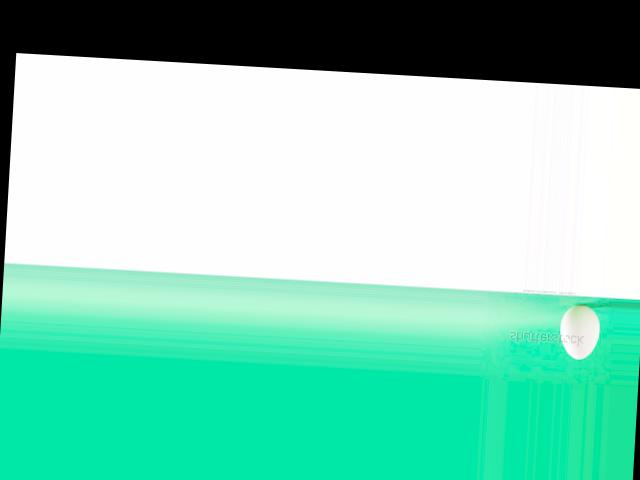egg: (559, 302, 601, 360)
